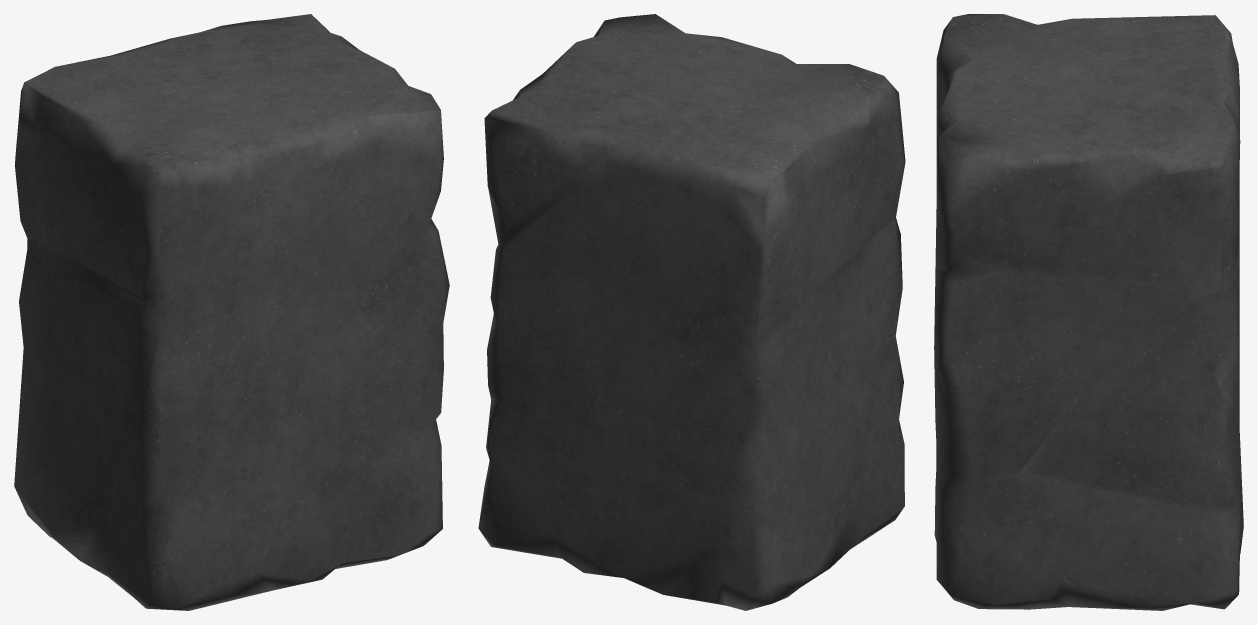
Rendered from SM_ColumnSegment3.fbx.
3 renders of one model, left to right at view 1: azimuth 30°, elevation 25°; view 2: azimuth 150°, elevation 25°; view 3: azimuth 270°, elevation 25°, orthographic. The views are drawn at different scales.
Parts seen in each view (by area): view 1: SM_ColumnSegment3_LOD0; view 2: SM_ColumnSegment3_LOD0; view 3: SM_ColumnSegment3_LOD0.
Boxes of the visible parts, x1=… form: SM_ColumnSegment3_LOD0: x1=14, y1=14, x2=449, y2=610; SM_ColumnSegment3_LOD0: x1=478, y1=14, x2=905, y2=610; SM_ColumnSegment3_LOD0: x1=934, y1=14, x2=1243, y2=610.
Size of the model in its own units: 134 by 117 by 192.
Materials: 1 (1 with a texture image).
